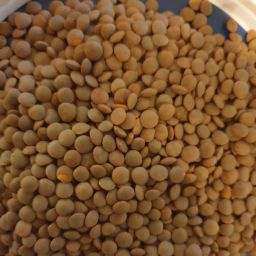Black Lentil(masoor daal): (2, 9, 256, 256), (137, 33, 239, 252), (38, 59, 129, 198)
